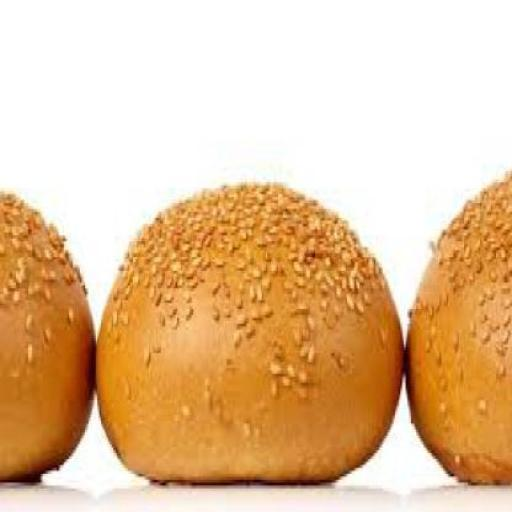biodegradable: (94, 179, 402, 486), (401, 165, 510, 482), (0, 187, 95, 486)
